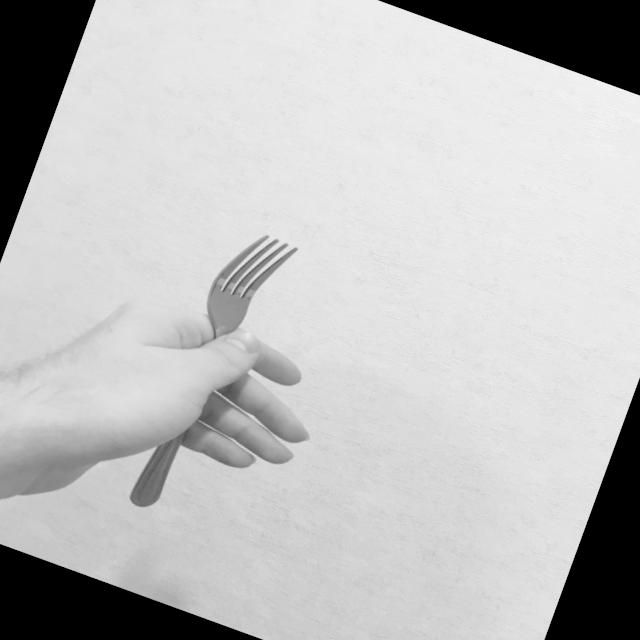fork: (125, 220, 302, 530)
